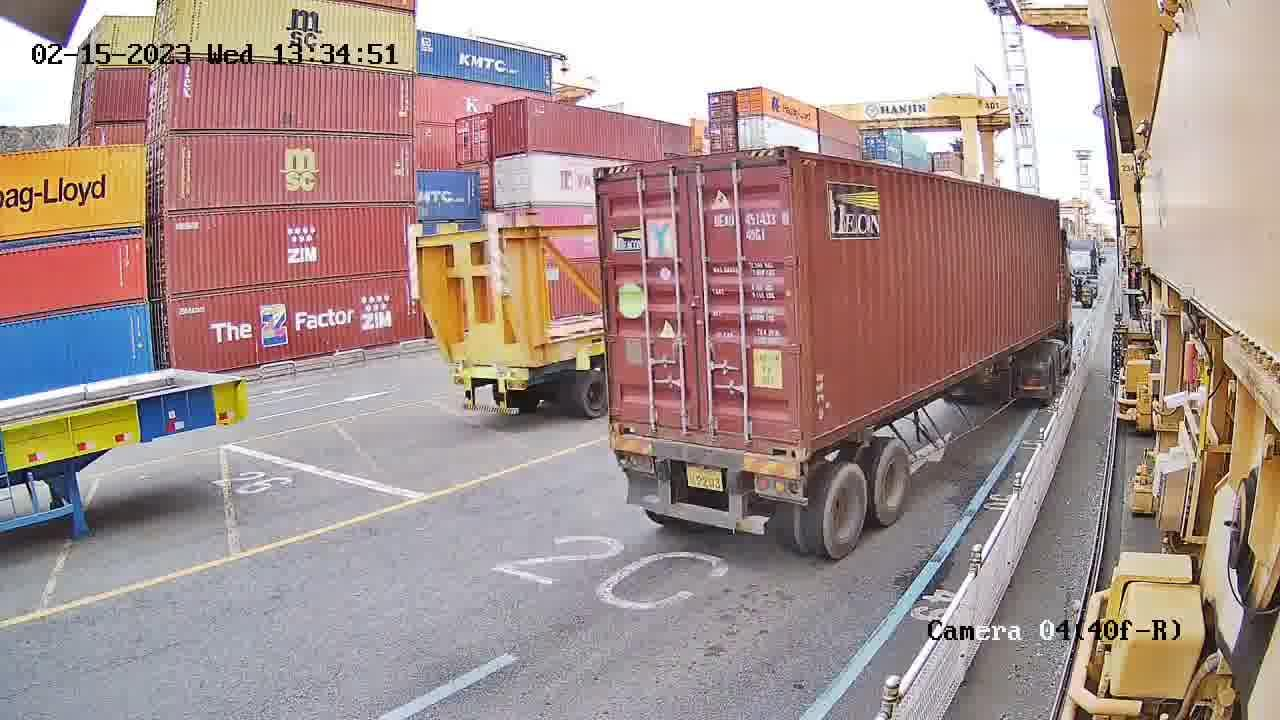Chassis: (611, 436, 803, 493)
Hole_L: (802, 416, 836, 462), (608, 402, 640, 436)
Hole_R: (764, 422, 804, 460)
Tire: (820, 466, 867, 558), (873, 443, 913, 527)
